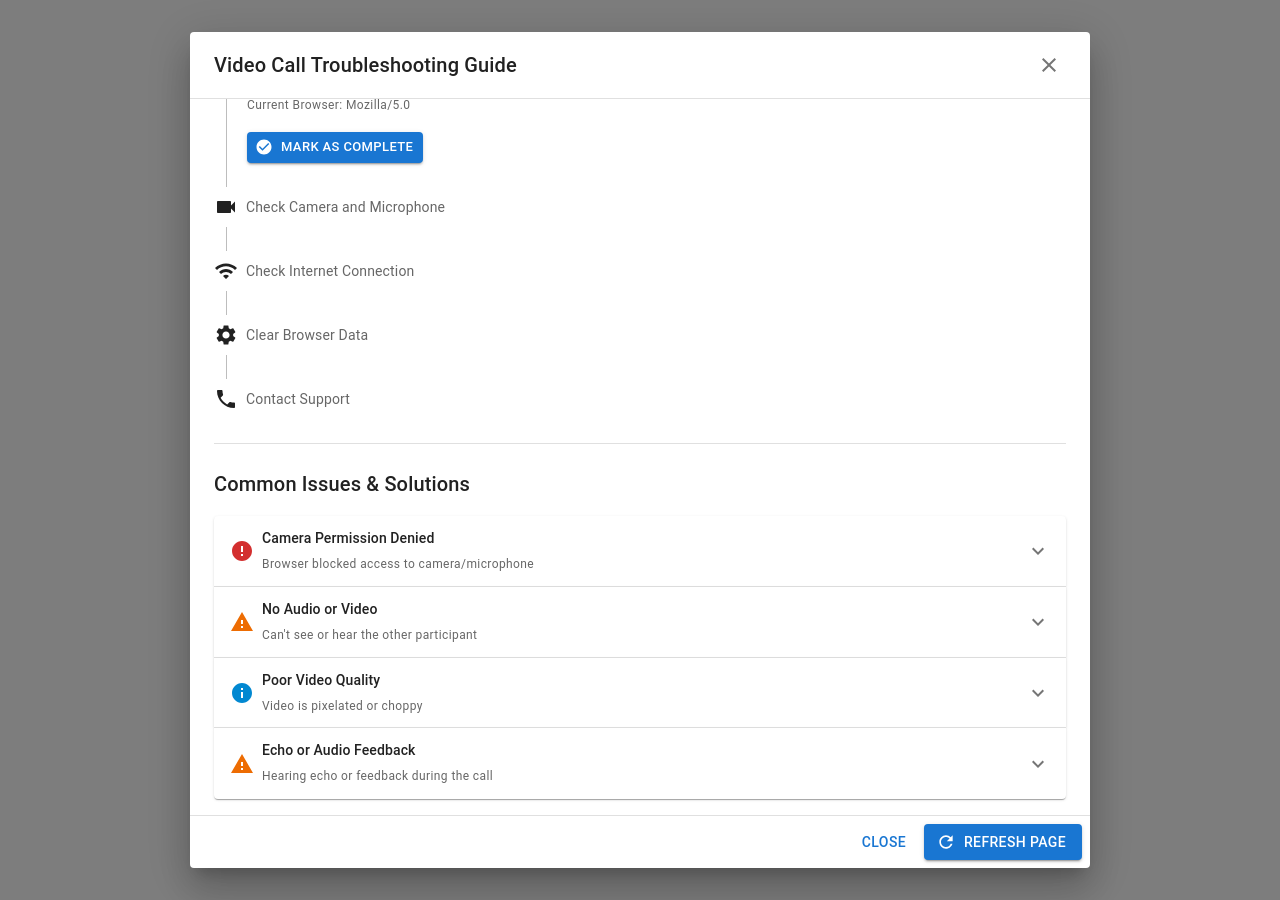
Test: TroubleshootingGuide › expands common issue accordion
(page scrolled)
Click the heading "Camera Permission Denied" at coordinates (348, 538), box [262,530,434,546]
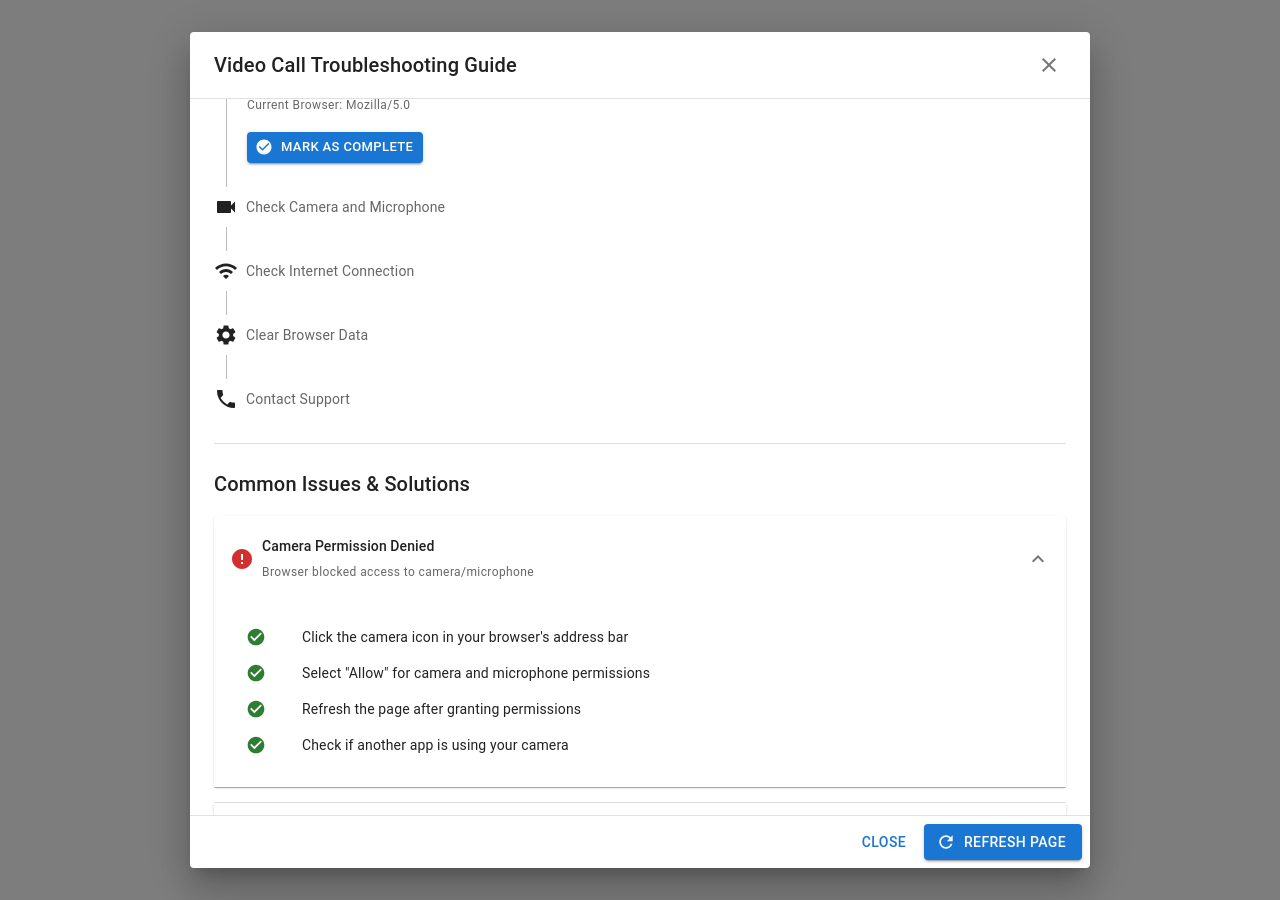
Expected: the text "Click the camera icon in your browser's address bar" is shown, [302,629,628,645]
